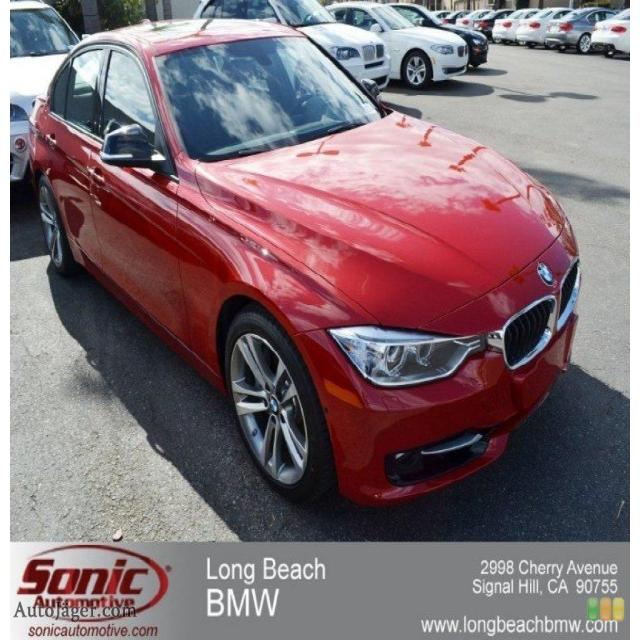Car: (24, 16, 572, 495)
